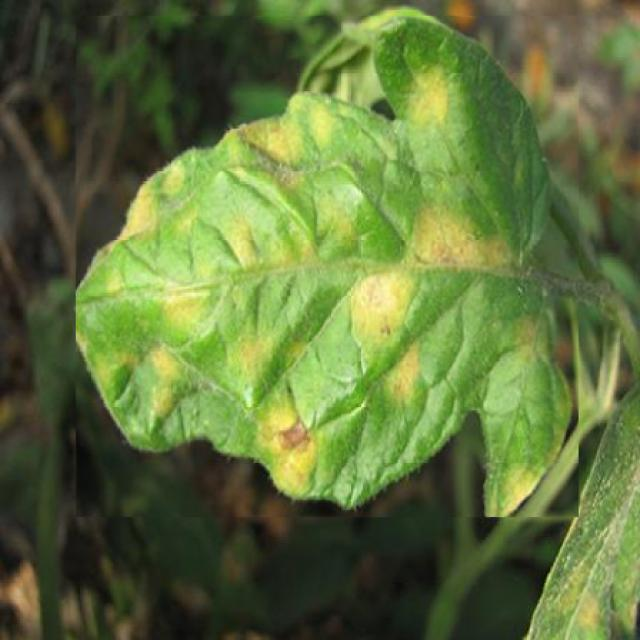Leaf Mold: (76, 16, 580, 517)
